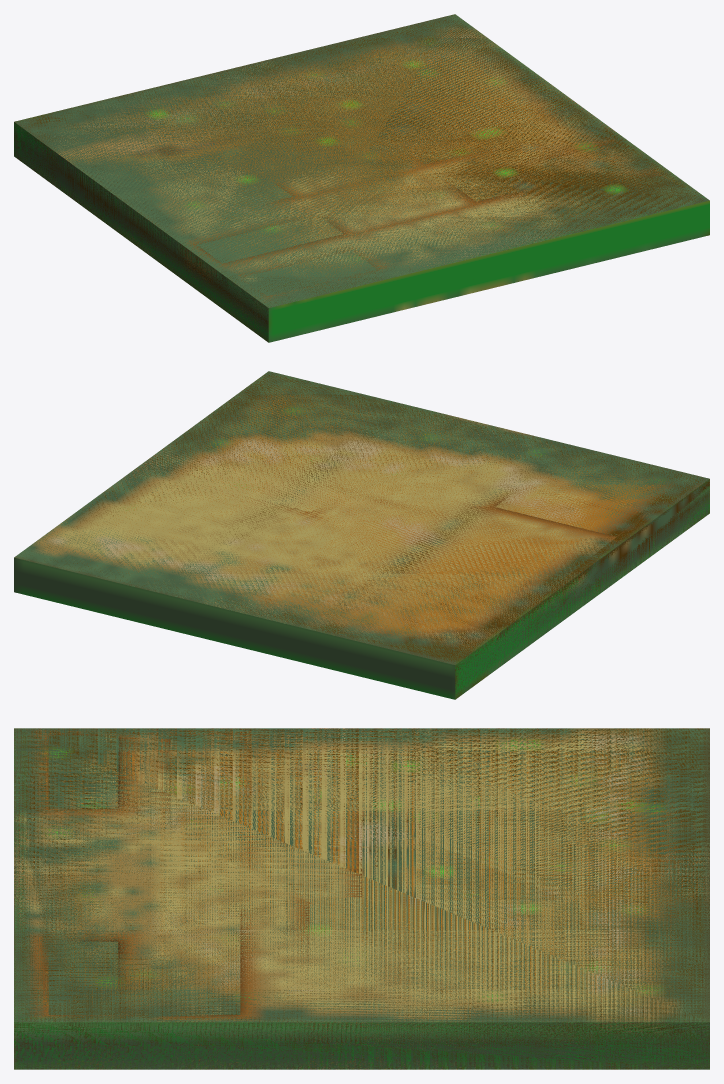
Rendered from other all .fbx.
The picture shows the model from 3 angles, top to bottom: view 1: azimuth 30°, elevation 25°; view 2: azimuth 150°, elevation 25°; view 3: azimuth 270°, elevation 25°; orthographic projection. The views are drawn at different scales.
Visible parts, largest first — view 1: Other.008, Other.010, Other.009, Other.016, Other.006, Other.007, Other.002, Other.017, Other.015, Other.018, Other.012, Other.020 (+4 smaller); view 2: Other.006, Other.015, Other.018, Other.010, Other.001, Other.011, Other.013, Other.007, Other.009, Other.002, Other.004, Other.008 (+2 smaller); view 3: Other.006, Other.008, Other.009, Other.012, Other.007, Other.010, Other.001, Other.015, Other.011, Other.002, Other.013, Other.003 (+5 smaller).
Boxes of the visible parts, x1,y1,x2,y2 form: Other.008: (14,14,592,307); Other.010: (16,14,650,309); Other.009: (14,15,644,319); Other.016: (35,16,653,319); Other.006: (15,14,709,334); Other.007: (16,15,708,325); Other.002: (14,122,709,342); Other.017: (15,100,706,263); Other.015: (22,15,556,288); Other.018: (162,15,690,305); Other.012: (150,35,704,336); Other.020: (14,133,268,339); Other.006: (14,371,708,664); Other.015: (15,373,632,690); Other.018: (37,397,709,670); Other.010: (217,381,706,672); Other.001: (14,486,709,699); Other.011: (133,375,709,661); Other.013: (97,372,493,625); Other.007: (78,371,708,668); Other.009: (105,377,707,663); Other.002: (455,553,644,699); Other.004: (476,489,709,681); Other.008: (258,383,641,695); Other.006: (14,728,709,1069); Other.008: (14,728,709,1069); Other.009: (14,728,709,1069); Other.012: (14,728,709,1069); Other.007: (14,728,709,1069); Other.010: (14,728,709,1069); Other.001: (14,1022,709,1069); Other.015: (14,728,709,1069); Other.011: (14,728,707,1069); Other.002: (14,1022,709,1069); Other.013: (14,728,709,1069); Other.003: (14,1022,709,1069).
Size of the model in its own units: 400 by 30 by 400.
1 material, 1 textured.
